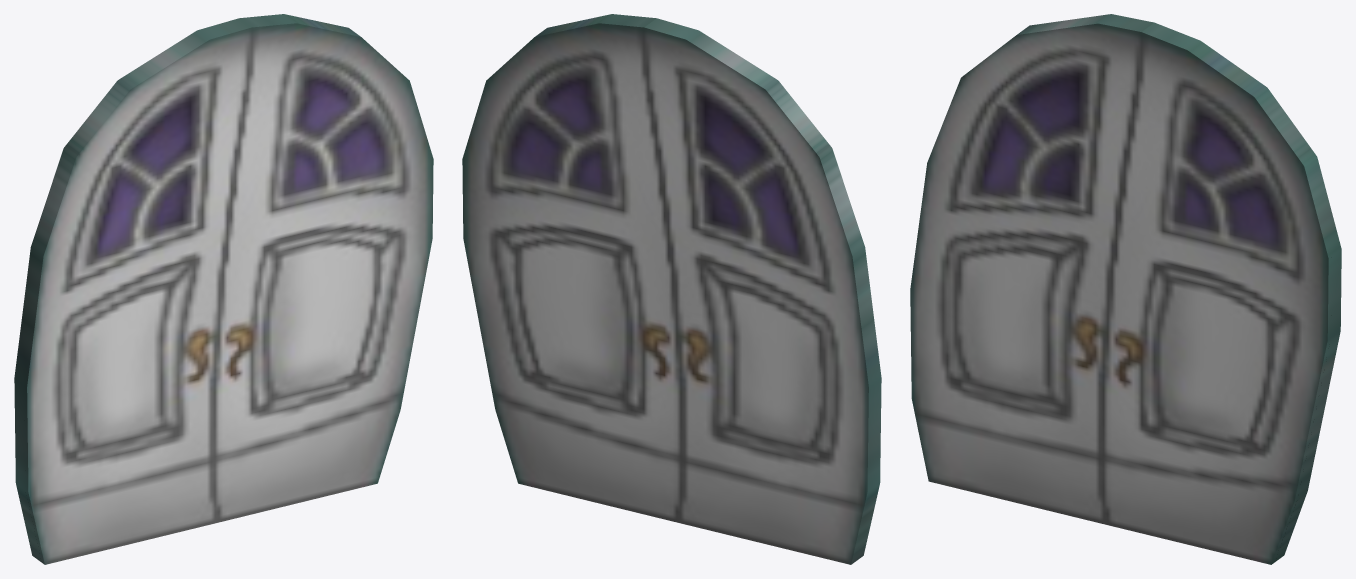
The model's file is doors.glb.
3 views of the same model, side by side, from view 1: azimuth 30°, elevation 25°; view 2: azimuth 150°, elevation 25°; view 3: azimuth 330°, elevation 25° (orthographic). The views are drawn at different scales.
Parts seen in each view (by area): view 1: leftDoor, rightDoor; view 2: leftDoor, rightDoor; view 3: rightDoor, leftDoor.
Boxes of the visible parts, x1,y1,x2,y2 form: leftDoor: (14,18,251,564); rightDoor: (213,14,433,521); leftDoor: (644,18,881,564); rightDoor: (462,14,682,521); rightDoor: (1102,22,1341,564); leftDoor: (910,14,1154,525).
Size of the model in its own units: 7.18 by 8.23 by 0.3877.
Materials: 2 (1 with a texture image).
